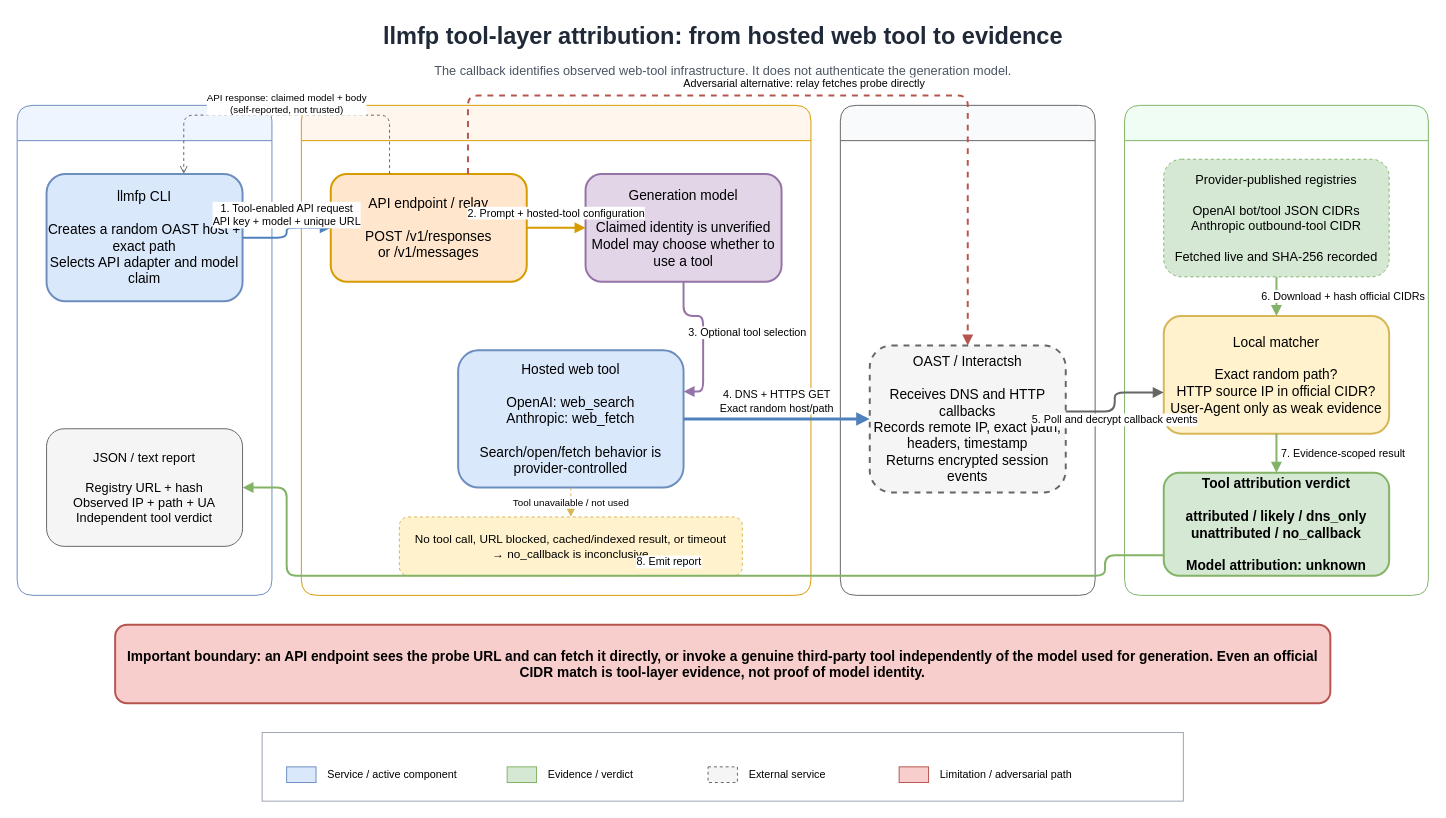
This 1446x818 diagram has some shape labels left out. Each missing label, with the box of its shape:
1 Local probe setup: (16, 104, 272, 595)
2 API and hosted-tool execution: (300, 104, 811, 595)
3 External observation: (839, 104, 1095, 595)
4 Evidence matching: (1124, 104, 1428, 595)
Legend: (261, 732, 1183, 801)
